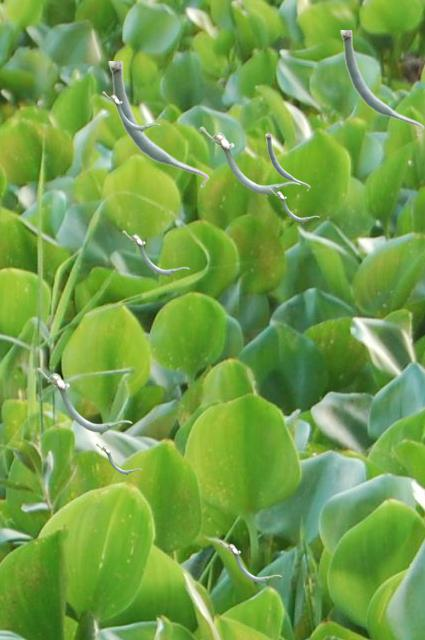french_bean: (108, 61, 208, 187), (340, 30, 423, 135), (199, 126, 299, 196), (36, 367, 131, 434), (122, 230, 188, 276), (219, 540, 280, 583), (265, 134, 309, 190), (102, 91, 159, 131), (269, 188, 318, 222), (96, 443, 140, 474)
